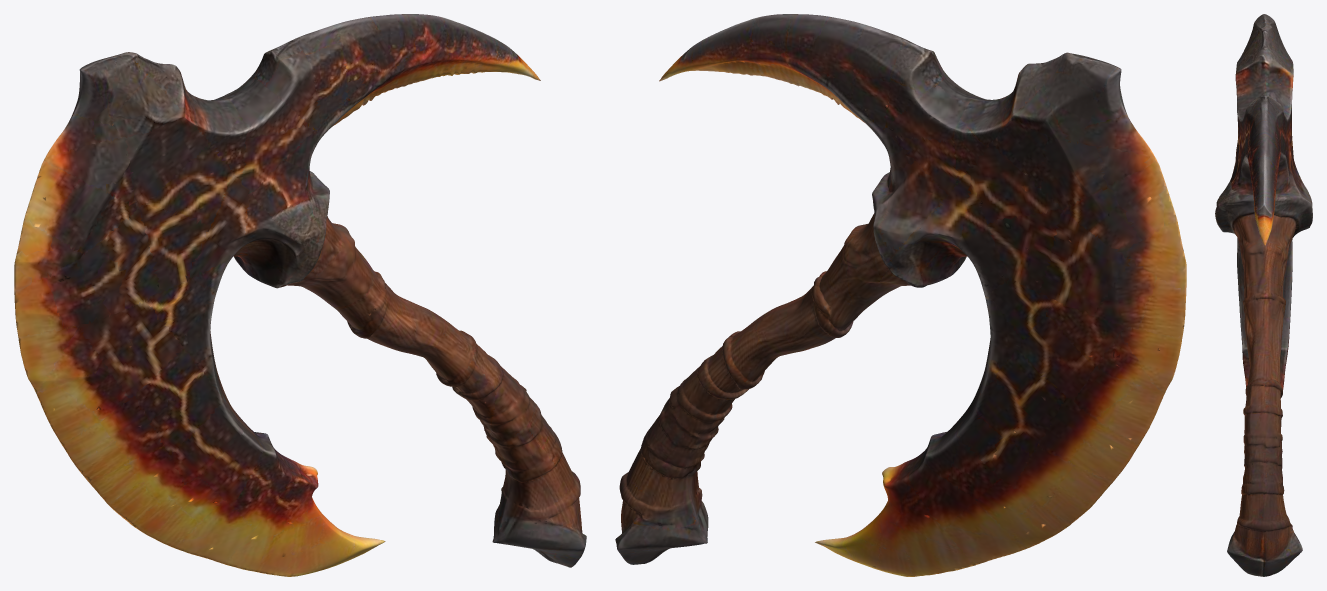
Rendered from PF_Axe8.glb.
The picture shows the model from 3 angles, left to right: view 1: azimuth 30°, elevation 25°; view 2: azimuth 150°, elevation 25°; view 3: azimuth 270°, elevation 25°; orthographic projection. The views are drawn at different scales.
Size of the model in its own units: 1.92 by 1.99 by 0.4319.
Materials: 1 (1 with a texture image).
